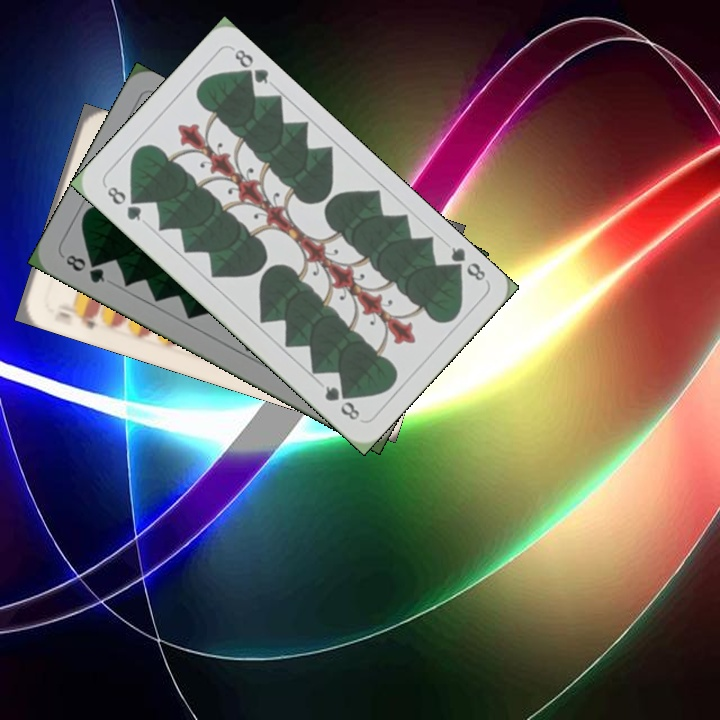E10: (54, 300, 100, 332)
G8: (443, 242, 488, 284), (102, 182, 145, 224), (61, 250, 108, 286)
